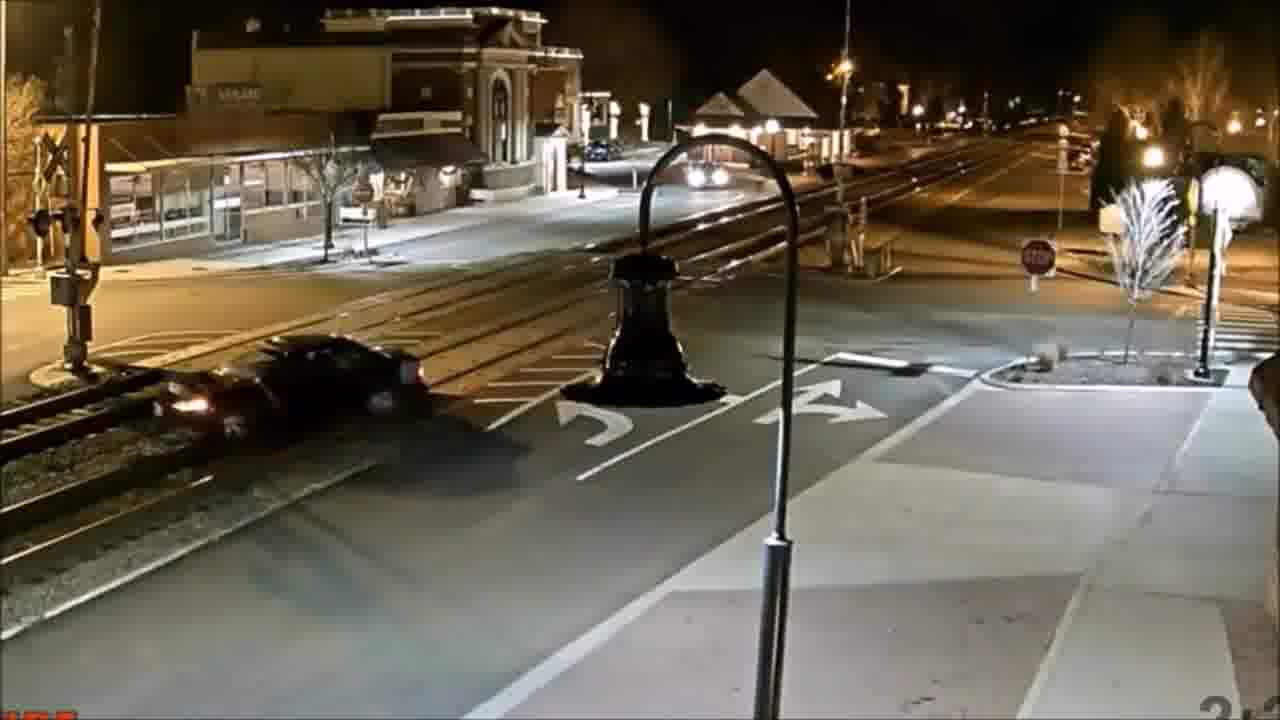crossing railway track: (147, 328, 436, 458)
